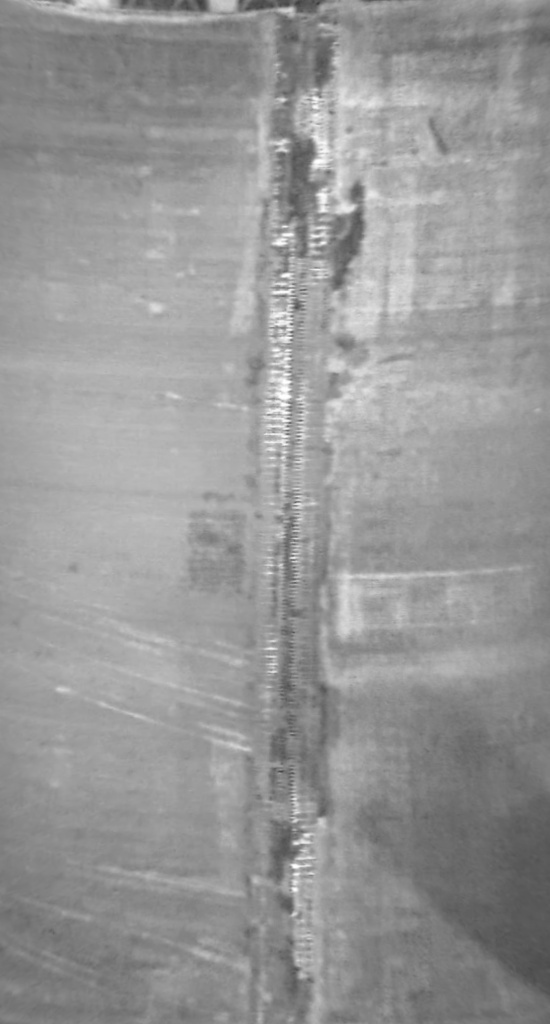splice: (248, 1, 361, 1024)
